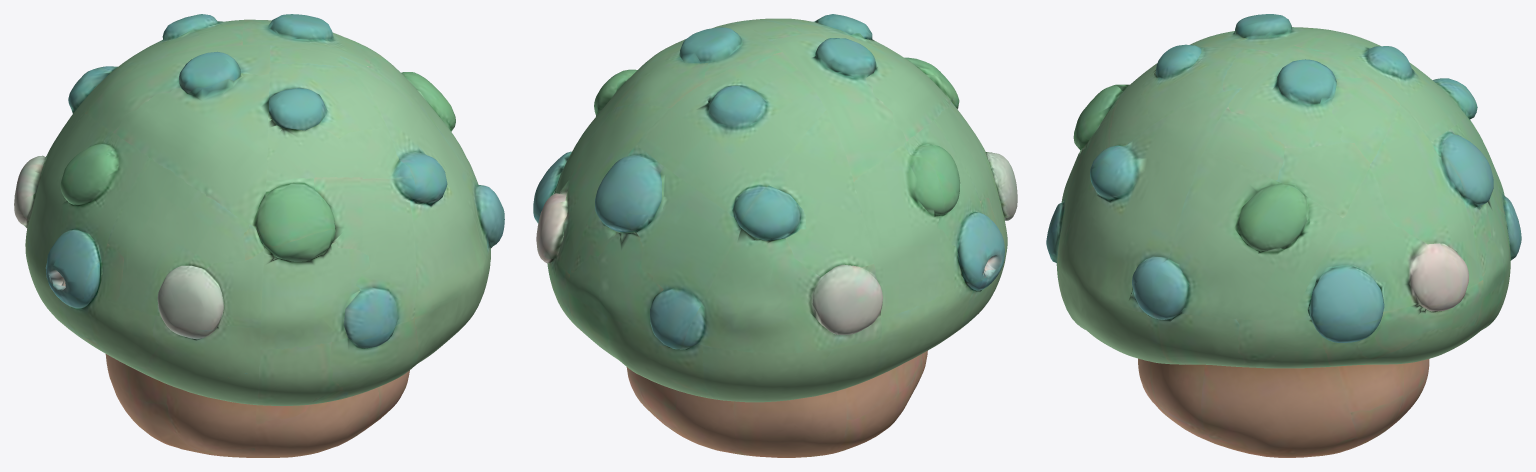
The model's file is acc_hat_vibe_mushroom_01.glb.
3 views of the same model, side by side, from view 1: azimuth 30°, elevation 25°; view 2: azimuth 150°, elevation 25°; view 3: azimuth 270°, elevation 25° (orthographic). The views are drawn at different scales.
Parts seen in each view (by area): view 1: acc_hat_vibe_mushroom_01; view 2: acc_hat_vibe_mushroom_01; view 3: acc_hat_vibe_mushroom_01.
Part boxes in pixels (bbox=[...]): acc_hat_vibe_mushroom_01: bbox=[14, 14, 504, 457]; acc_hat_vibe_mushroom_01: bbox=[533, 14, 1017, 457]; acc_hat_vibe_mushroom_01: bbox=[1046, 14, 1521, 457].
Size of the model in its own units: 0.3353 by 0.3 by 0.3374.
1 material, 1 textured.
